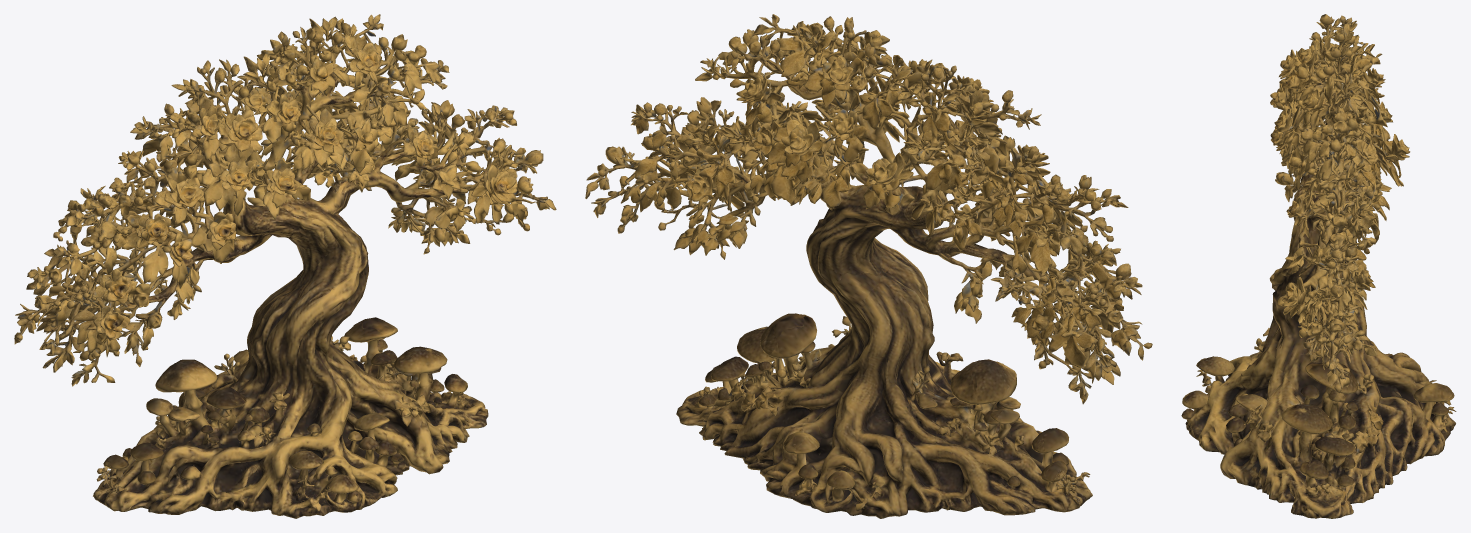
Rendered from mother-nature-golden-tree.glb.
3 views of the same model, side by side, from view 1: azimuth 30°, elevation 25°; view 2: azimuth 150°, elevation 25°; view 3: azimuth 270°, elevation 25° (orthographic). The views are drawn at different scales.
Size of the model in its own units: 1.9 by 1.43 by 0.8945.
1 material, 1 textured.
